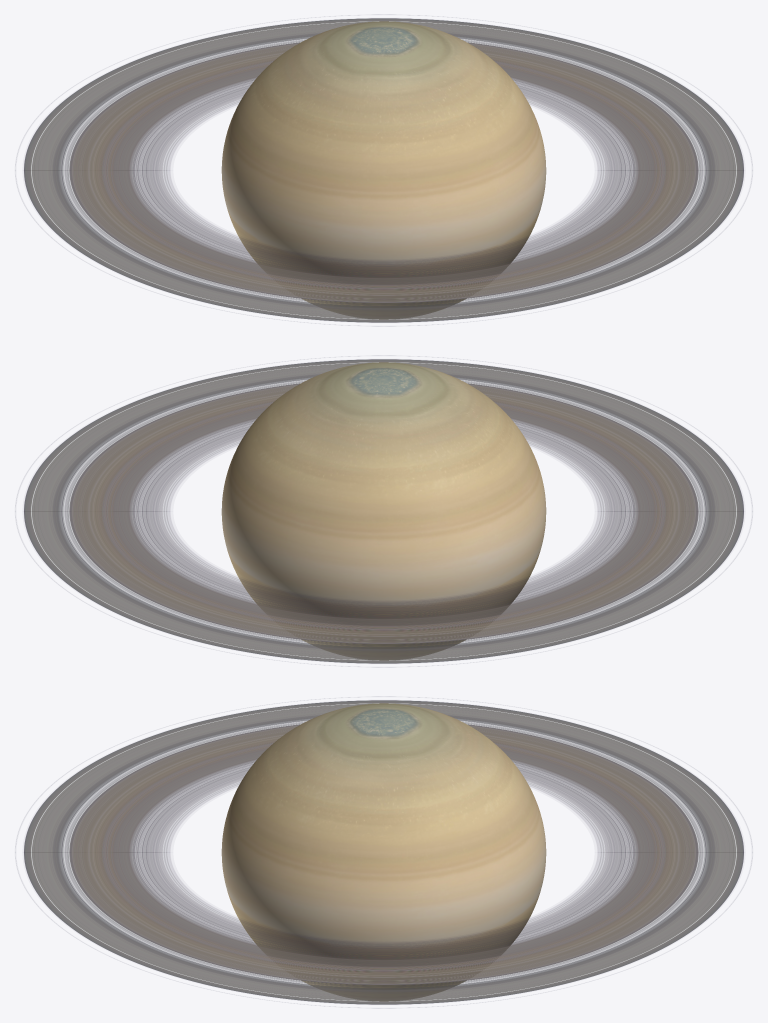
Rendered from saturn.glb.
3 views of the same model, one above another, from view 1: azimuth 30°, elevation 25°; view 2: azimuth 150°, elevation 25°; view 3: azimuth 270°, elevation 25° (orthographic).
Parts seen in each view (by area): view 1: SaturnRings, SaturnBody; view 2: SaturnRings, SaturnBody; view 3: SaturnRings, SaturnBody.
Boxes of the visible parts, left/top/right/bottom form: SaturnRings: left=24, top=18, right=743, bottom=322; SaturnBody: left=221, top=21, right=546, bottom=319; SaturnRings: left=24, top=359, right=743, bottom=663; SaturnBody: left=221, top=362, right=546, bottom=660; SaturnRings: left=24, top=700, right=743, bottom=1004; SaturnBody: left=221, top=703, right=546, bottom=1001.
Size of the model in its own units: 4.56 by 1.8 by 4.56.
Materials: 2 (2 with a texture image).
